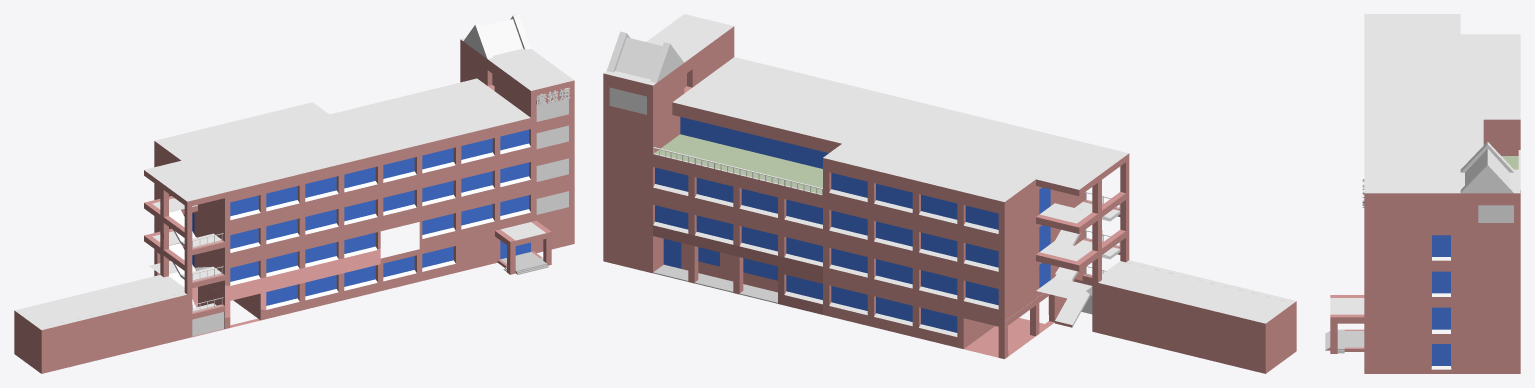
The model's file is honkan_m.glb.
3 views of the same model, side by side, from view 1: azimuth 30°, elevation 25°; view 2: azimuth 150°, elevation 25°; view 3: azimuth 270°, elevation 25° (orthographic). The views are drawn at different scales.
Visible parts, largest first — view 1: 本校舎; view 2: 本校舎; view 3: 本校舎.
Boxes of the visible parts, x1=… form: 本校舎: x1=14, y1=14, x2=574, y2=373; 本校舎: x1=603, y1=14, x2=1296, y2=373; 本校舎: x1=1325, y1=14, x2=1520, y2=373.
Size of the model in its own units: 20.44 by 6.96 by 5.86.
Materials: 2 (1 with a texture image).
